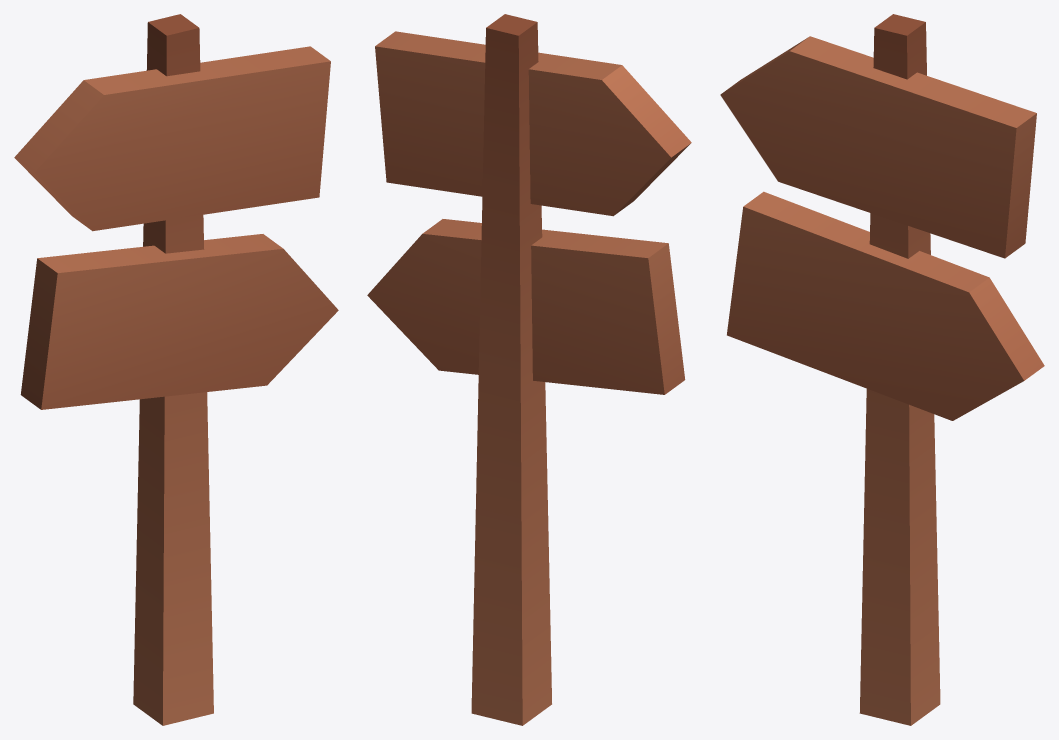
File: signpost.glb
3 views of the same model, side by side, from view 1: azimuth 30°, elevation 25°; view 2: azimuth 150°, elevation 25°; view 3: azimuth 330°, elevation 25° (orthographic).
Visible parts, largest first — view 1: signpost; view 2: signpost; view 3: signpost.
Boxes of the visible parts, <box> form: signpost: <box>14,14,338,725</box>; signpost: <box>367,14,691,725</box>; signpost: <box>720,14,1044,725</box>.
Bounding box in the file's own units: 0.2141 × 0.4601 × 0.043.
